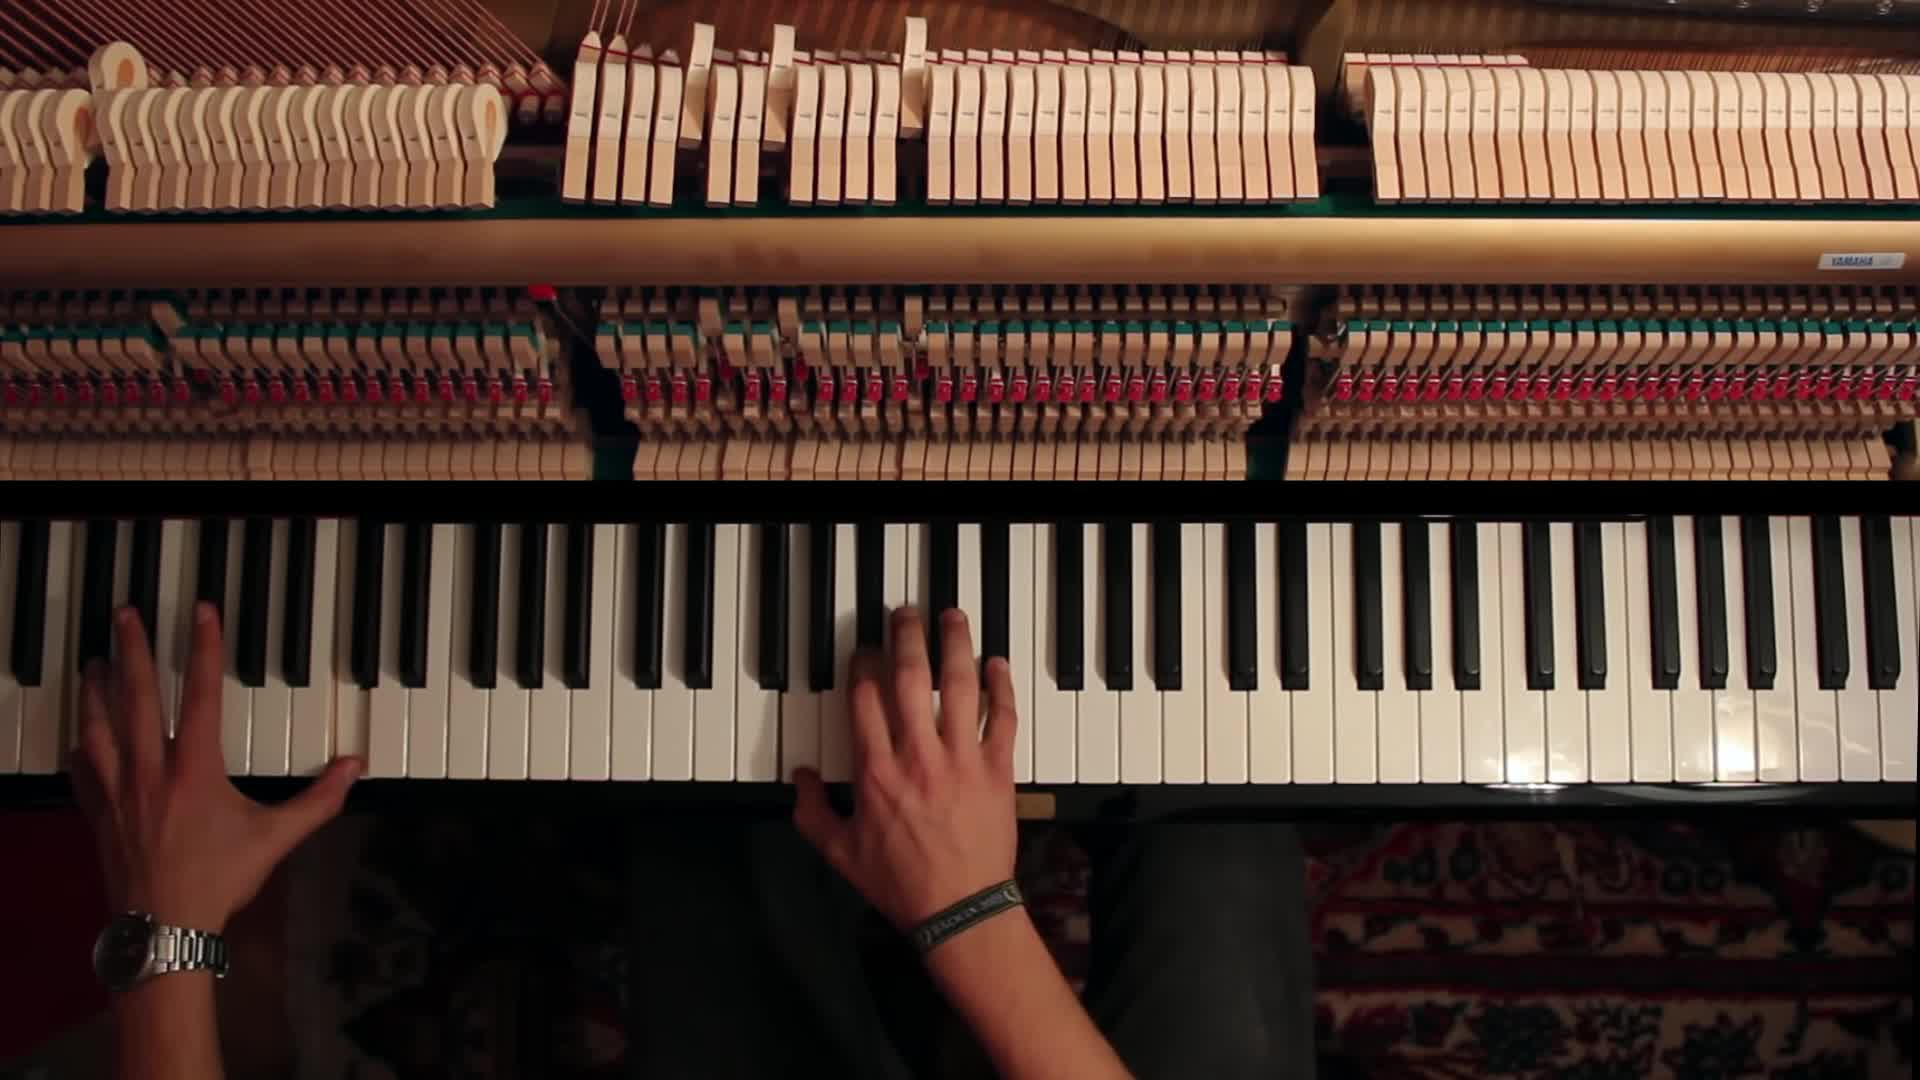left: (57, 599, 373, 916)
right: (790, 601, 1023, 922)
